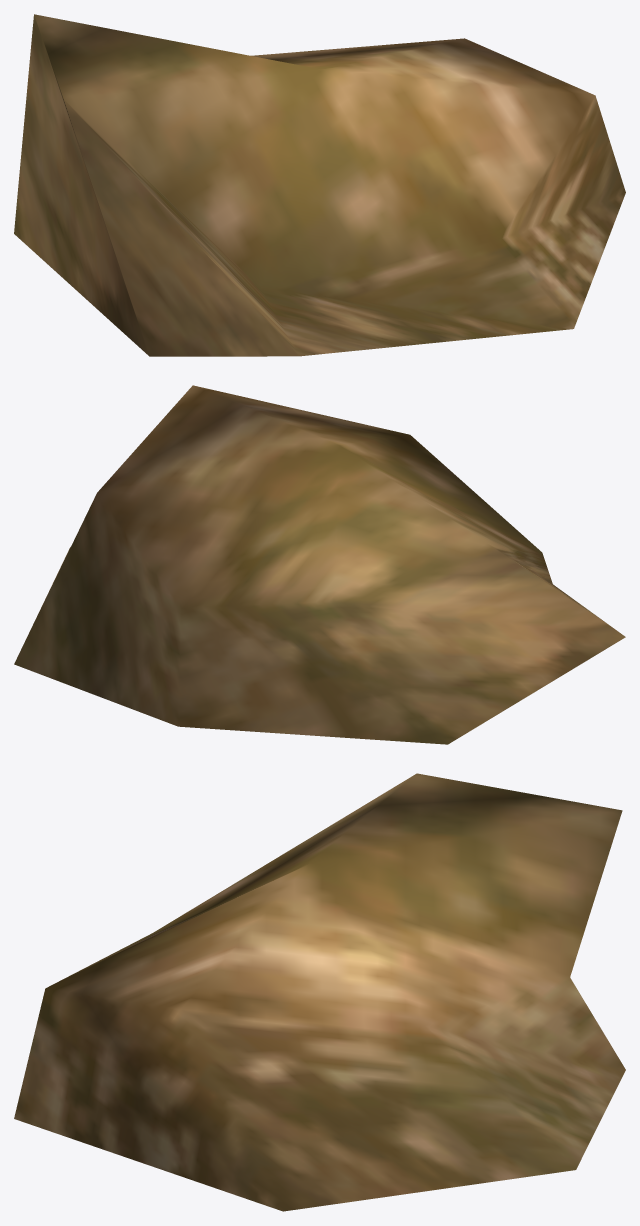
Rendered from M5_Rock02.glb.
3 views of the same model, one above another, from view 1: azimuth 30°, elevation 25°; view 2: azimuth 150°, elevation 25°; view 3: azimuth 270°, elevation 25° (orthographic). The views are drawn at different scales.
Visible parts, largest first — view 1: M5_ROCK02; view 2: M5_ROCK02; view 3: M5_ROCK02.
Part boxes in pixels (x1,y1,x2,y2): M5_ROCK02: (14,14,625,356); M5_ROCK02: (14,385,625,744); M5_ROCK02: (14,773,625,1211).
Size of the model in its own units: 0.761 by 0.256 by 0.723.
1 material, 1 textured.
